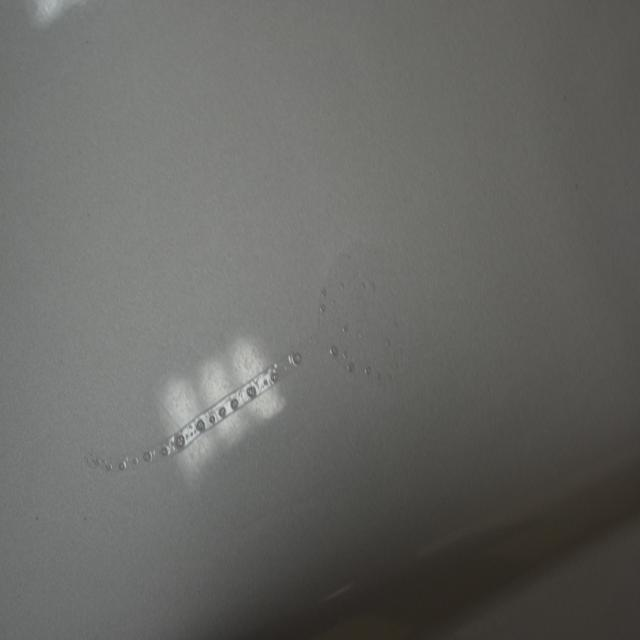runs: (85, 240, 399, 476)
